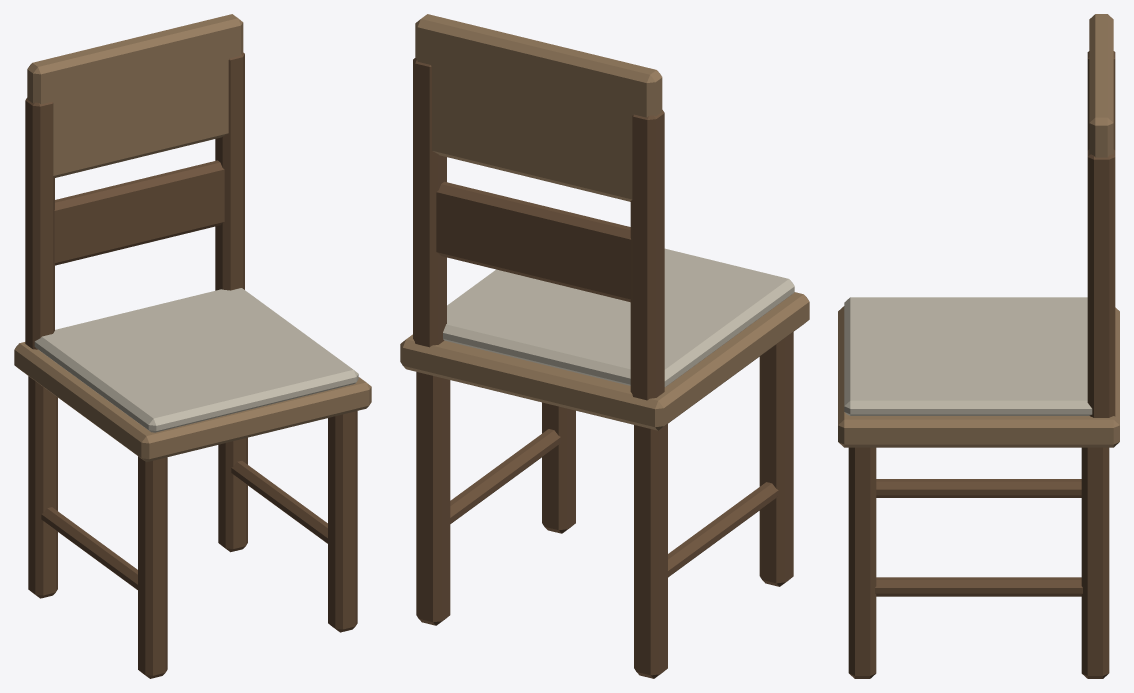
The model's file is PRP_Chair_ND_v001.glb.
3 renders of one model, left to right at view 1: azimuth 30°, elevation 25°; view 2: azimuth 150°, elevation 25°; view 3: azimuth 270°, elevation 25°, orthographic. The views are drawn at different scales.
Parts seen in each view (by area): view 1: PRP_Chair_ND_v001; view 2: PRP_Chair_ND_v001; view 3: PRP_Chair_ND_v001.
Boxes of the visible parts, box(x1,y1,x2,y2) form: PRP_Chair_ND_v001: box(14, 14, 371, 678); PRP_Chair_ND_v001: box(400, 14, 809, 678); PRP_Chair_ND_v001: box(838, 14, 1119, 678).
Size of the model in its own units: 0.46 by 1.01 by 0.46.
